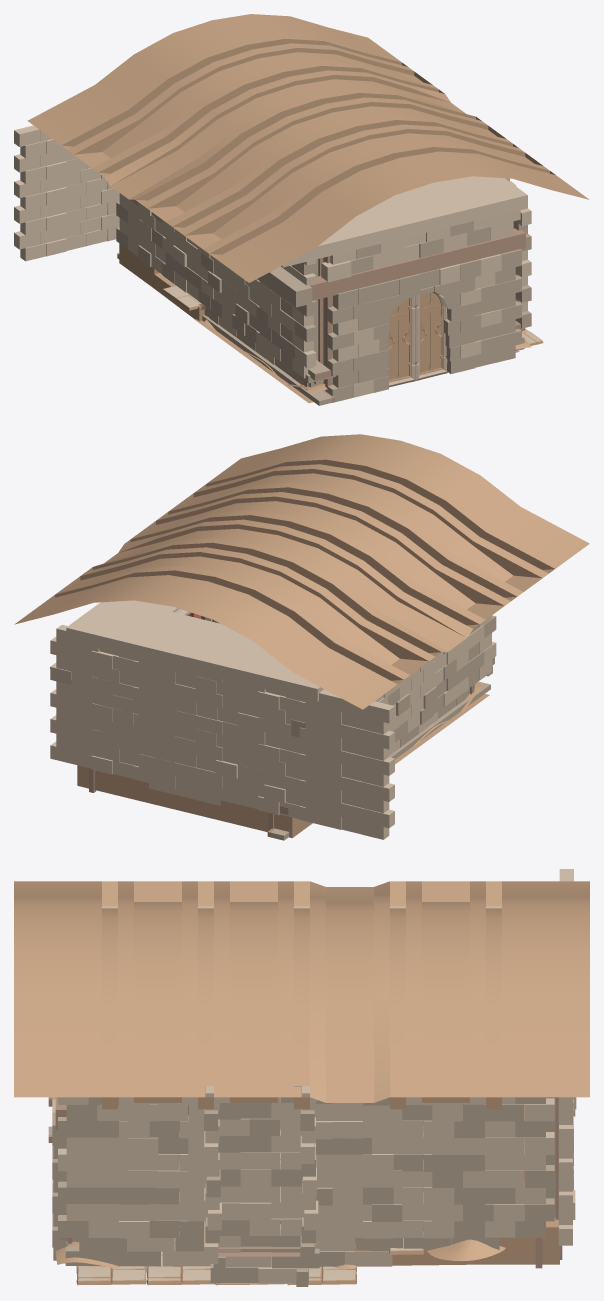
3 renders of one model, top to bottom at view 1: azimuth 30°, elevation 25°; view 2: azimuth 150°, elevation 25°; view 3: azimuth 270°, elevation 25°, orthographic. The views are drawn at different scales.
Visible parts, largest first — view 1: Plane.002, Cube.202, Cube.204, Cube.092, Cube.080, Cube.110, Level1_.051, Cube.100, Cube.077, Plane.001, Cube.112, Cube.064; view 2: Plane.002, Cube.092, Cube.080, Cube.204, Plane.001, Cube.100, Cube.064; view 3: Plane.002, Cube.112, Cube.200, Cube.114, Plane.001, Cube.092, Plane.006, Cube.100, Cube.101, Cube.098, Cube.202, Cube.079.
Part boxes in pixels (x1,y1,x2,y2): Plane.002: (27,14,589,282); Cube.202: (327,249,521,402); Cube.204: (116,193,316,378); Cube.092: (14,125,119,261); Cube.080: (281,176,527,267); Cube.110: (321,209,520,282); Level1_.051: (388,291,447,387); Cube.100: (117,253,335,405); Cube.077: (309,228,525,300); Plane.001: (119,243,519,403); Cube.112: (505,178,531,328); Cube.064: (204,307,323,387); Plane.002: (14,434,589,709); Cube.092: (50,625,394,839); Cube.080: (66,600,323,701); Cube.204: (375,615,496,742); Plane.001: (77,694,489,838); Cube.100: (89,657,494,840); Cube.064: (389,684,474,755); Plane.002: (14,881,589,1109); Cube.112: (58,1086,554,1263); Cube.200: (211,1086,301,1252); Cube.114: (65,1232,499,1286); Plane.001: (64,1159,559,1283); Cube.092: (558,869,576,1245); Plane.006: (55,1105,524,1268); Cube.100: (48,1097,562,1268); Cube.101: (76,1266,146,1285); Cube.098: (146,1238,215,1285); Cube.202: (52,1097,67,1260); Cube.079: (287,1266,356,1285).
Bounding box in the file's own units: 284 × 161 × 302.
